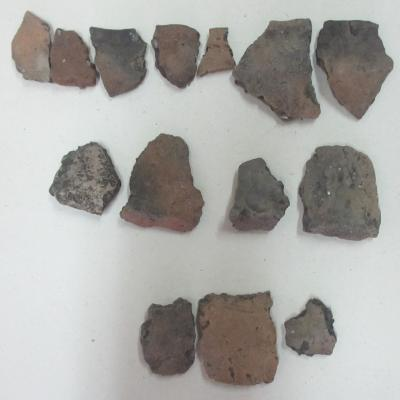archeology: (152, 19, 322, 122), (140, 292, 279, 387), (12, 12, 151, 99), (120, 134, 205, 234), (299, 145, 382, 242), (316, 20, 395, 121), (49, 143, 122, 217), (228, 159, 291, 233), (284, 298, 338, 358)
